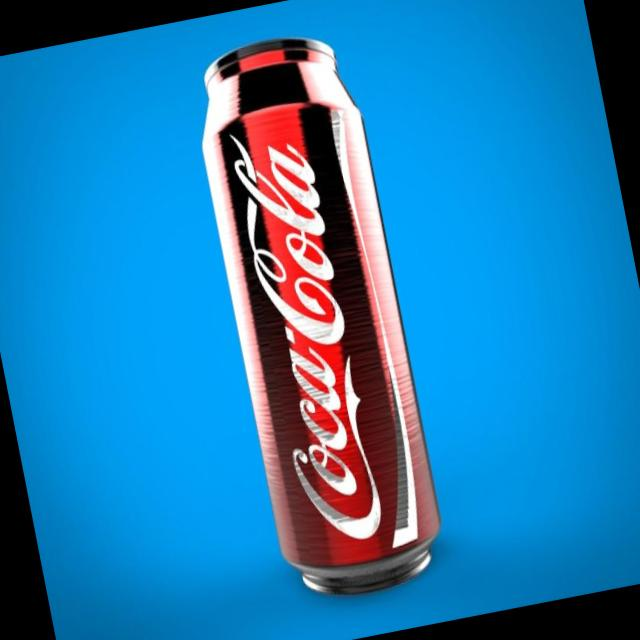cocacola: (178, 28, 450, 600)
